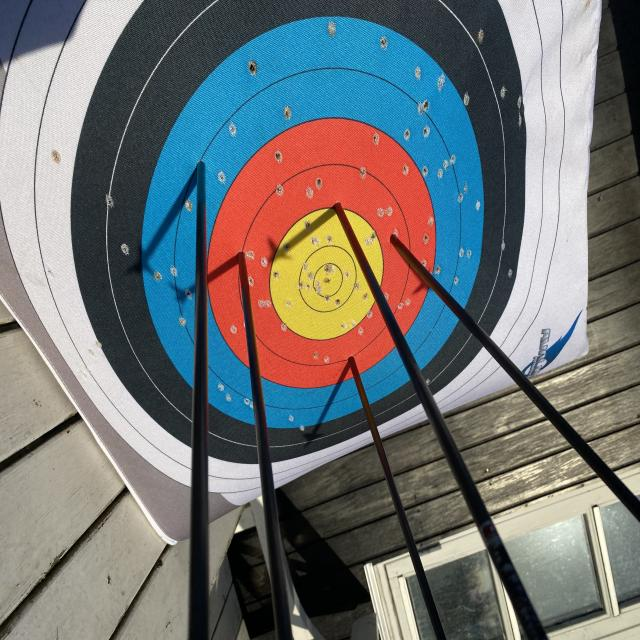Arrow_Blue: (190, 144, 219, 191)
Arrow_Red: (322, 185, 351, 221), (229, 237, 251, 284), (382, 221, 410, 255), (345, 343, 367, 378)
